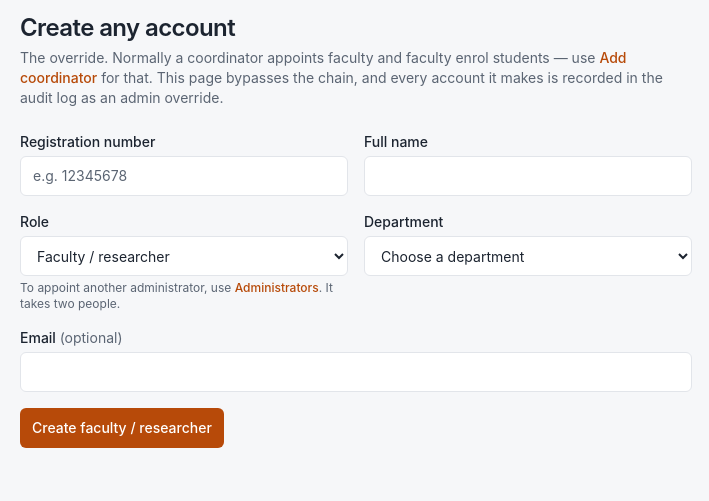
Test: AdminCreateAccountPage › stops asking for a department once the role is dean, who has none
This screenshot has width=709, height=501.
Select "Dean of Research" in the dropdown labelled "Role" at [184, 256], box 20,236 -> 348,276
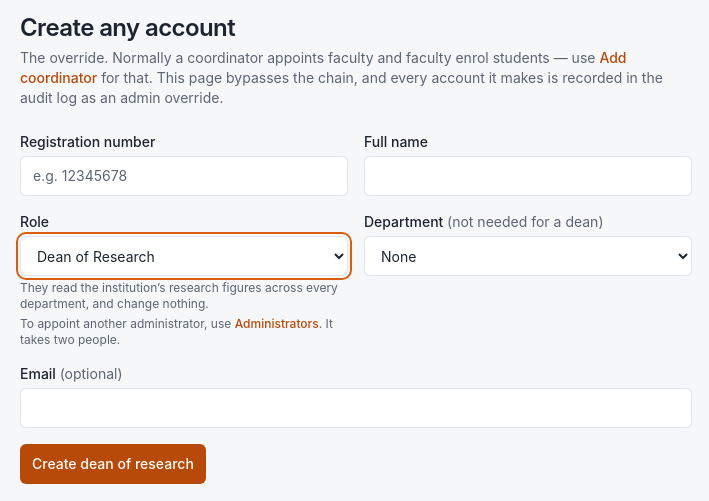
Now the text "(not needed for a dean)" is shown, box 447,213 -> 604,230
